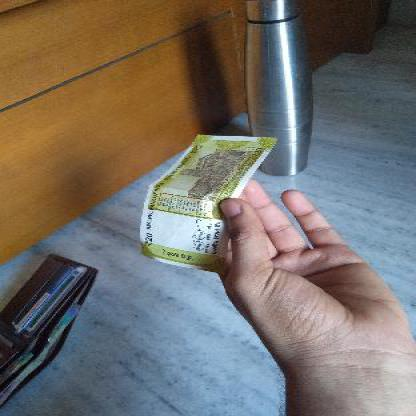New20Back: (143, 138, 280, 268)
